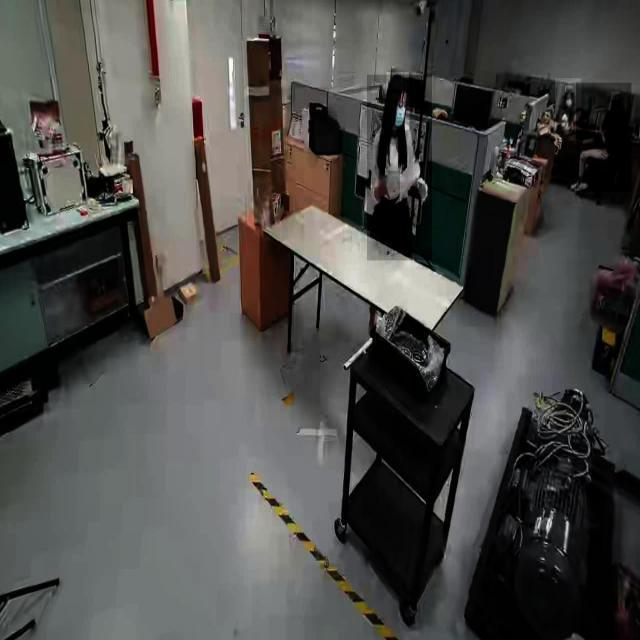gloves: (378, 170, 401, 210), (413, 164, 431, 206)
